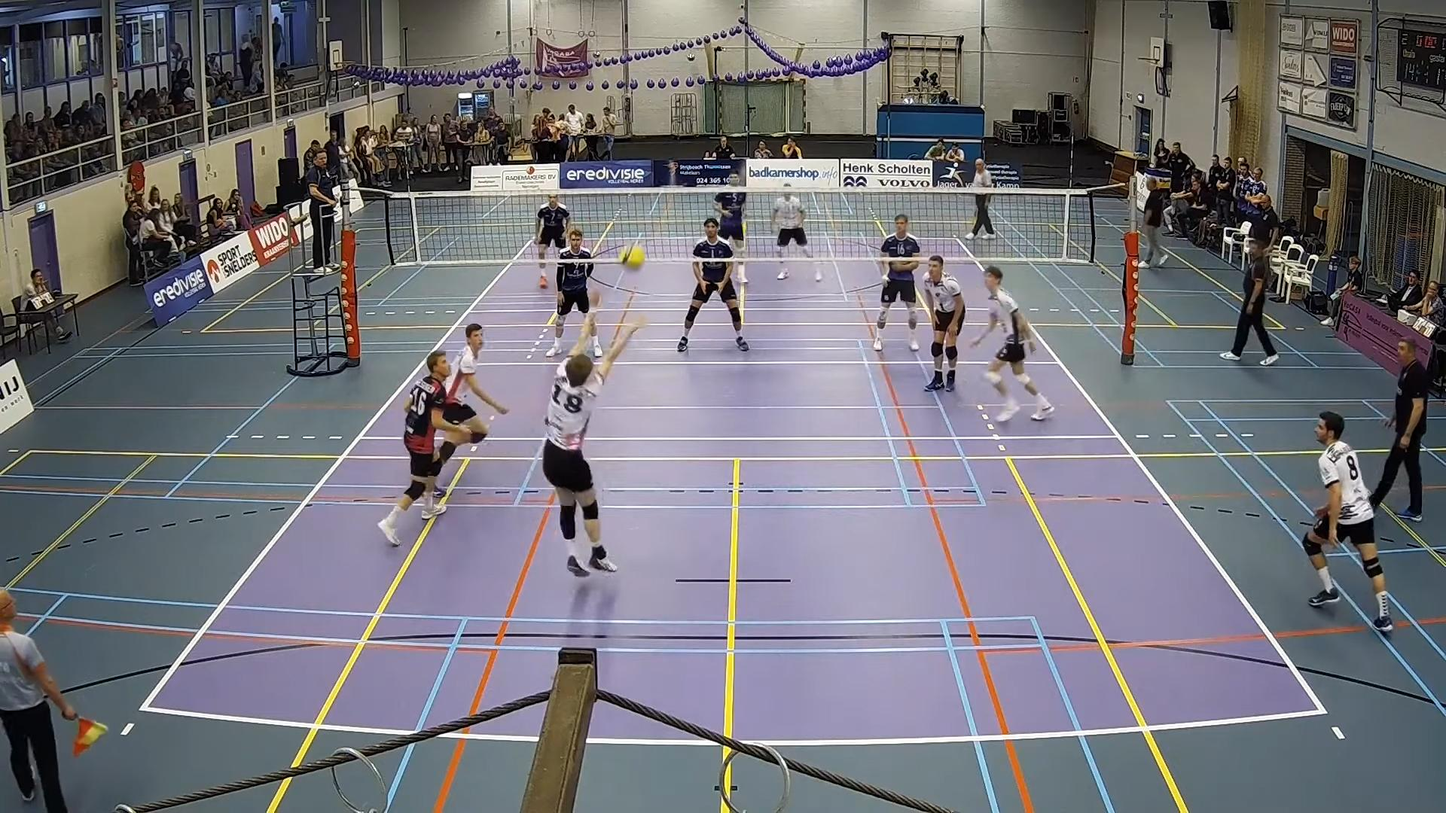Player: (1302, 411, 1393, 632), (378, 351, 471, 545), (972, 266, 1053, 419), (677, 218, 749, 352), (444, 323, 508, 443), (874, 215, 920, 351), (546, 227, 593, 357), (922, 255, 965, 391), (771, 184, 812, 279), (715, 173, 746, 284), (535, 194, 570, 288)
Receive: (541, 317, 625, 582)
ball: (620, 245, 645, 270)
